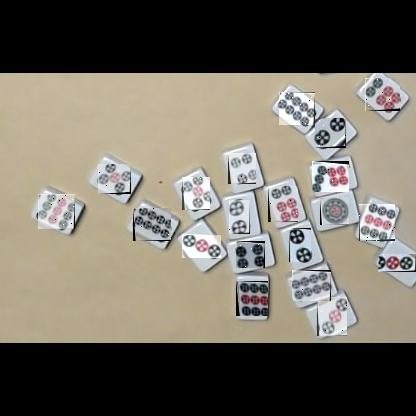1p: (320, 197, 349, 225)
2p: (314, 118, 346, 148), (289, 228, 311, 262), (229, 200, 250, 234)
3p: (317, 297, 347, 336), (182, 234, 221, 258), (378, 254, 416, 272)
4p: (228, 153, 256, 184), (236, 241, 265, 268)
5p: (98, 164, 131, 194), (182, 177, 210, 210)
6p: (365, 78, 400, 111), (268, 186, 298, 222)
7p: (312, 161, 349, 192)
8p: (133, 208, 171, 241), (292, 270, 331, 301), (279, 92, 315, 125)
9p: (359, 204, 395, 241), (38, 194, 75, 229), (236, 281, 268, 316)
